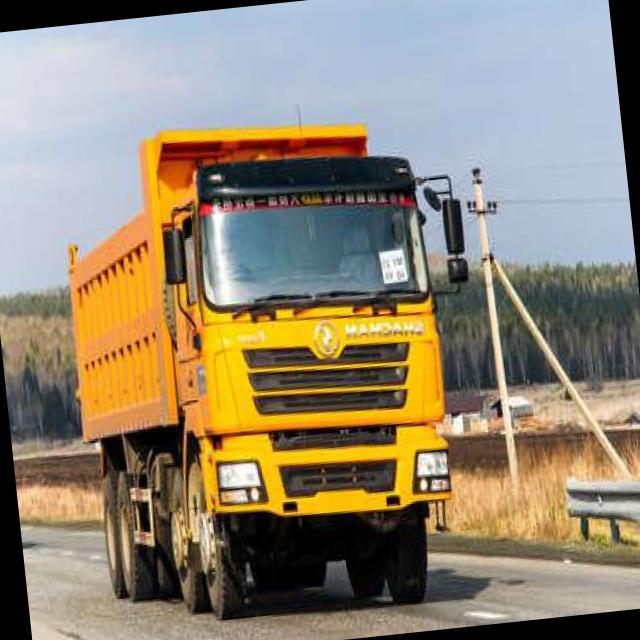Camion volquete: (48, 77, 502, 640)
